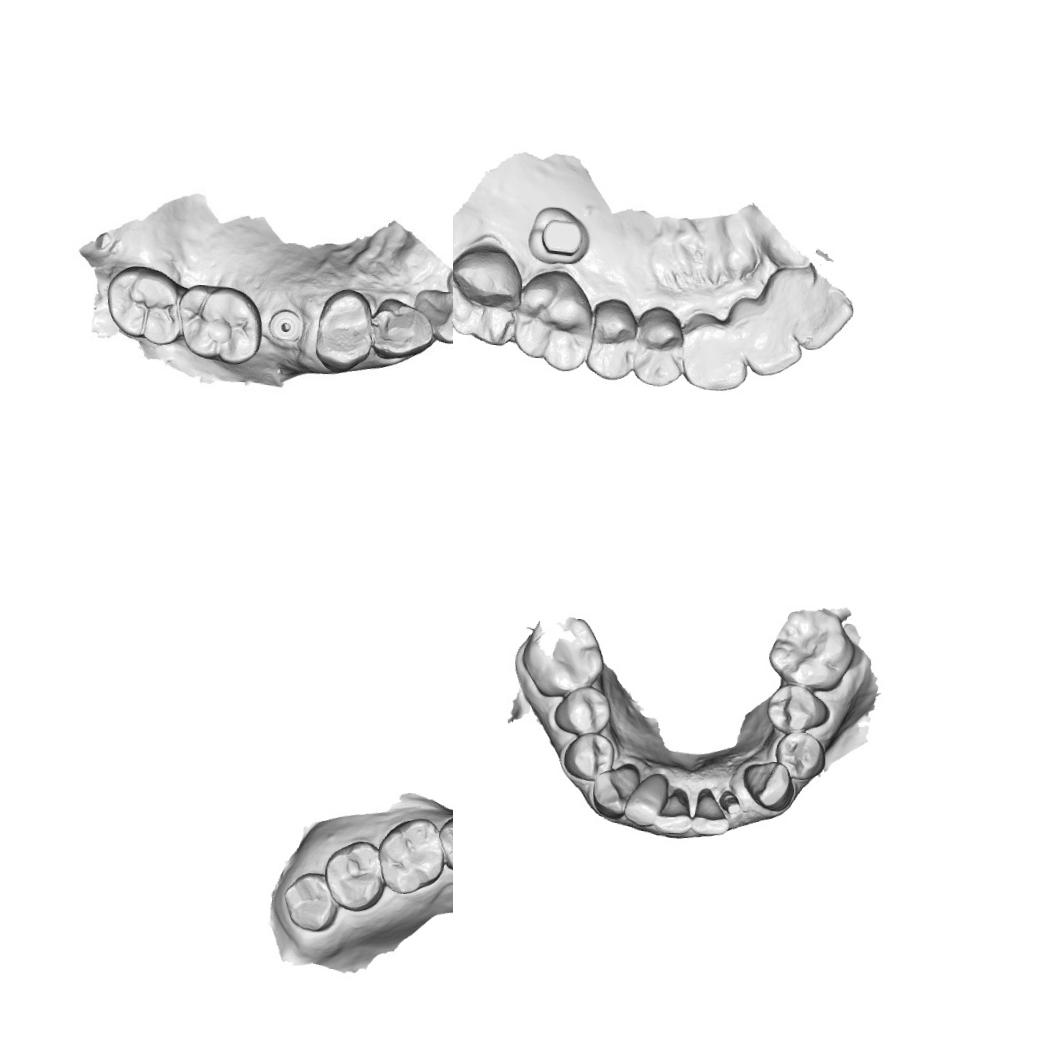abutment: (716, 788, 744, 816)
canine: (682, 312, 750, 394), (370, 296, 434, 362), (740, 756, 796, 812), (589, 759, 640, 820)
implant: (264, 306, 305, 350)
incisor: (774, 278, 855, 354), (734, 301, 807, 381), (622, 770, 670, 828), (413, 287, 453, 344), (654, 793, 693, 835), (688, 804, 730, 838)
molar: (508, 266, 595, 372), (765, 604, 858, 692), (517, 613, 607, 702), (453, 243, 527, 349), (103, 262, 184, 347), (176, 282, 262, 362), (373, 814, 450, 898), (320, 836, 389, 914), (279, 867, 340, 934)
premolar: (311, 285, 374, 372), (580, 296, 640, 382), (633, 303, 685, 391), (764, 681, 832, 737), (552, 684, 613, 738), (771, 729, 828, 781), (563, 730, 616, 784), (434, 812, 453, 874)
